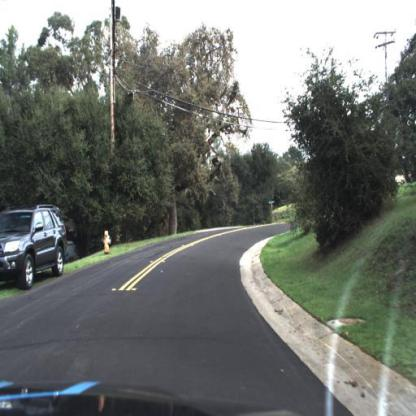car: (1, 205, 69, 292)
